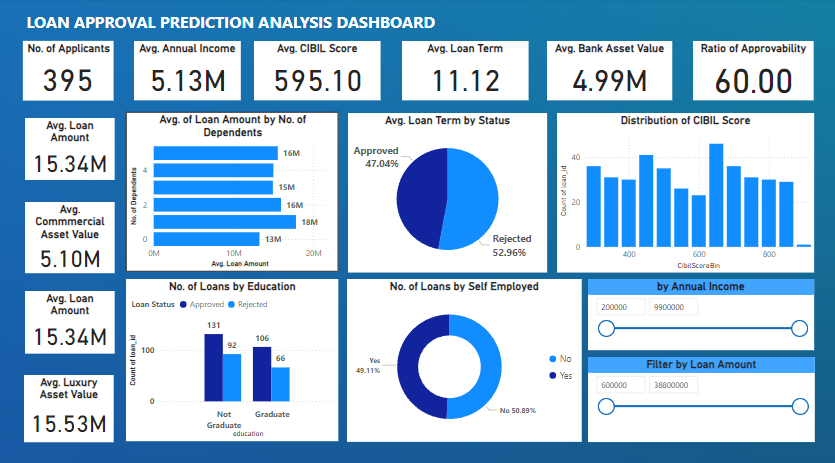

This screenshot's page, from the dashboard's own definition file:
{"tool":"powerbi","page":{"name":"Page 1","canvas":[1280,720],"ordinal":0},"visuals":[{"type":"card","title":"No. of Applicants","fields":{"Values":["CountNonNull(loan_approval_dataset.loan_id)"]},"box":[35.2,65,136.7,90],"z":0},{"type":"card","title":"Avg. CIBIL Score","fields":{"Values":["Avg(loan_approval_dataset. cibil_score)"]},"box":[385,65,191.7,90],"z":1000},{"type":"donutChart","title":"No. of Loans by Self Employed","fields":{"Category":["loan_approval_dataset. self_employed"],"Y":["CountNonNull(loan_approval_dataset.loan_id)"]},"box":[525.7,425.7,355.7,247.1],"z":2000},{"type":"card","title":"Avg. Loan Amount","fields":{"Values":["Avg(loan_approval_dataset. loan_amount)"]},"box":[37.2,182.5,136.2,93.8],"z":3000},{"type":"card","title":"Avg. Annual Income","fields":{"Values":["Avg(loan_approval_dataset. income_annum)"]},"box":[203.3,65,161.7,90],"z":4000},{"type":"pieChart","title":"Avg. Loan Term by  Status","fields":{"Category":["loan_approval_dataset. loan_status"],"Y":["Avg(loan_approval_dataset. loan_term)"]},"box":[528.2,174,302,242],"z":5000},{"type":"barChart","title":"Avg. of Loan Amount by No. of Dependents","fields":{"Y":["Avg(loan_approval_dataset. loan_amount)"],"Category":["loan_approval_dataset. no_of_dependents"]},"box":[191.1,173.3,322.2,242.2],"z":6000},{"type":"card","title":"Avg. Loan Term","fields":{"Values":["Avg(loan_approval_dataset. loan_term)"]},"box":[610,65,191.7,90],"z":7000},{"type":"card","title":"Avg. Bank Asset Value","fields":{"Values":["Avg(loan_approval_dataset. bank_asset_value)"]},"box":[830,65,190,90],"z":8000},{"type":"clusteredColumnChart","title":"No. of Loans by Education ","fields":{"Y":["CountNonNull(loan_approval_dataset.loan_id)"],"Category":["loan_approval_dataset. education"],"Series":["loan_approval_dataset. loan_status"]},"box":[191.1,426.7,322.2,245.6],"z":9000},{"type":"card","title":"Avg. Commmercial Asset Value","fields":{"Values":["Avg(loan_approval_dataset. commercial_assets_value)"]},"box":[37.2,308.8,136.2,107.5],"z":10000},{"type":"card","title":"Avg. Loan Amount","fields":{"Values":["Avg(loan_approval_dataset. loan_amount)"]},"box":[37.2,443.8,136.2,95],"z":11000},{"type":"card","title":"Avg. Luxury Asset Value","fields":{"Values":["Avg(loan_approval_dataset. luxury_assets_value)"]},"box":[36.7,571.5,136,101.5],"z":12000},{"type":"card","title":"Ratio of Approvability","fields":{"Values":["loan_approval_dataset.approvability_ratio"]},"box":[1051.7,65,183.3,90],"z":13000},{"type":"clusteredColumnChart","title":"Distribution of CIBIL Score","fields":{"Category":["loan_approval_dataset.CibilScoreBin"],"Y":["CountNonNull(loan_approval_dataset.loan_id)"]},"box":[844.2,174,390,242],"z":14000},{"type":"textbox","box":[35,15,738.3,50],"z":15001},{"type":"slicer","title":"by Annual Income ","fields":{"Values":["loan_approval_dataset. income_annum"]},"box":[891.5,426.5,342.5,107.5],"z":15002},{"type":"slicer","title":"Filter  by Loan Amount","fields":{"Values":["loan_approval_dataset. loan_amount"]},"box":[891.2,543.8,343.8,128.8],"z":15003}]}

Visuals, with their boxes in screenshot pixels (x1, y1, x2, y2), scaled from the page's 1280x720 canvas onto the 835x463 screenshot:
"No. of Applicants" card: bbox=(23, 42, 112, 100)
"Avg. CIBIL Score" card: bbox=(251, 42, 376, 100)
"No. of Loans by Self Employed" donutChart: bbox=(343, 274, 575, 433)
"Avg. Loan Amount" card: bbox=(24, 117, 113, 178)
"Avg. Annual Income" card: bbox=(133, 42, 238, 100)
"Avg. Loan Term by  Status" pieChart: bbox=(345, 112, 542, 268)
"Avg. of Loan Amount by No. of Dependents" barChart: bbox=(125, 111, 335, 267)
"Avg. Loan Term" card: bbox=(398, 42, 523, 100)
"Avg. Bank Asset Value" card: bbox=(541, 42, 665, 100)
"No. of Loans by Education " clusteredColumnChart: bbox=(125, 274, 335, 432)
"Avg. Commmercial Asset Value" card: bbox=(24, 199, 113, 268)
"Avg. Loan Amount" card: bbox=(24, 285, 113, 346)
"Avg. Luxury Asset Value" card: bbox=(24, 368, 113, 433)
"Ratio of Approvability" card: bbox=(686, 42, 806, 100)
"Distribution of CIBIL Score" clusteredColumnChart: bbox=(551, 112, 805, 268)
textbox: bbox=(23, 10, 504, 42)
"by Annual Income " slicer: bbox=(582, 274, 805, 343)
"Filter  by Loan Amount" slicer: bbox=(581, 350, 806, 433)
